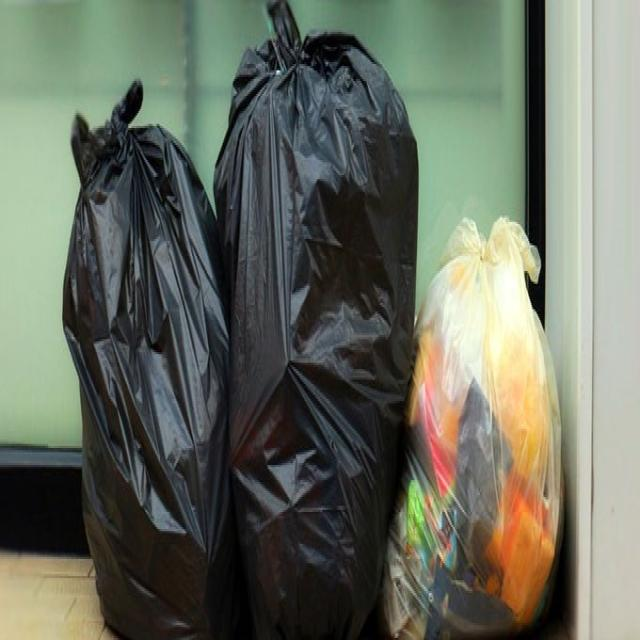sampah-detection: (210, 0, 422, 640), (63, 77, 233, 640), (376, 209, 564, 640)
